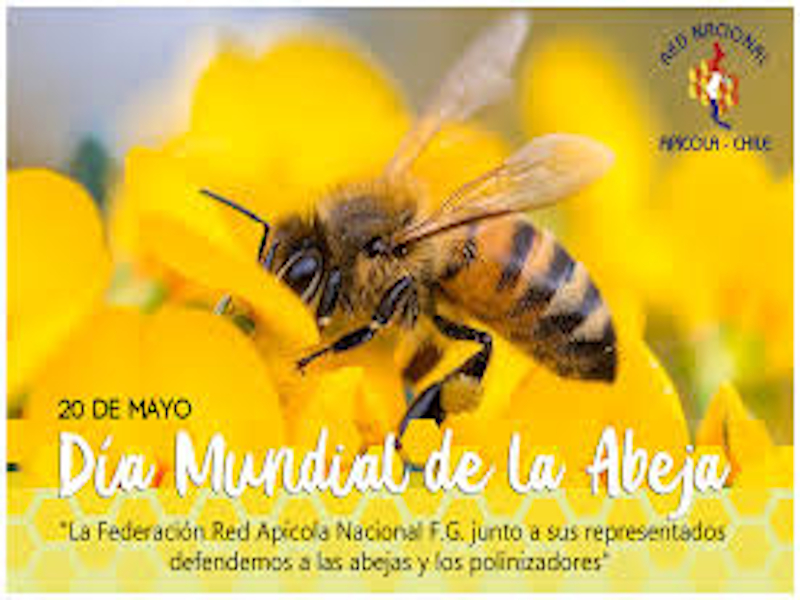abeja: (225, 6, 644, 441)
